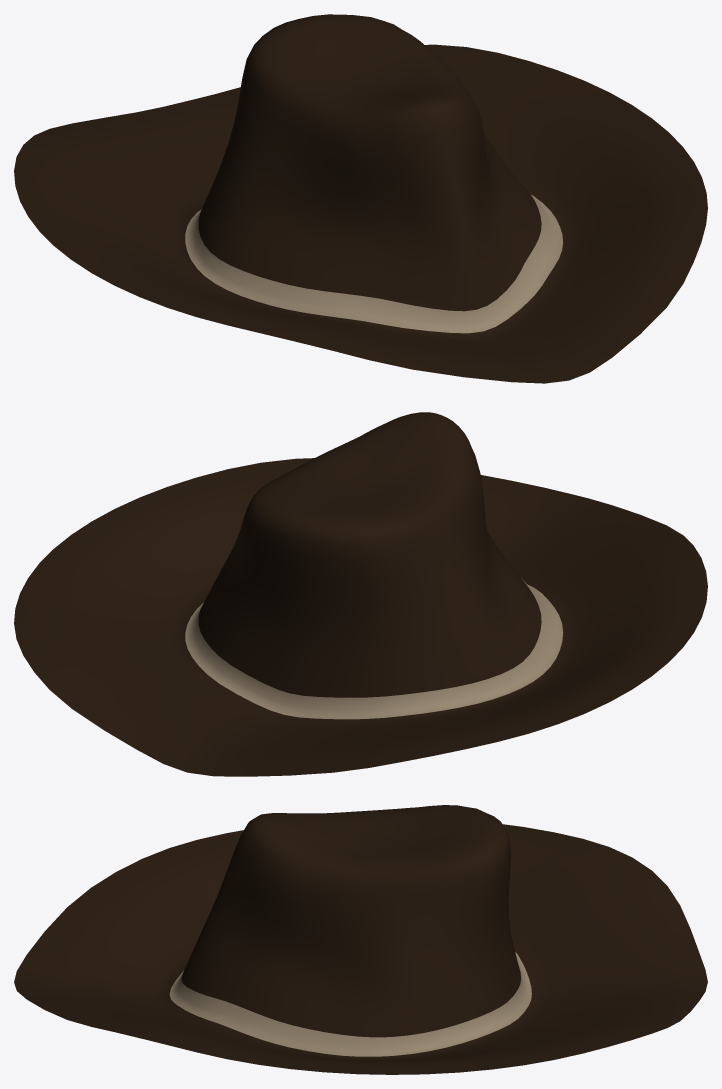
Rendered from cowboyhat_for_export.fbx.
3 renders of one model, top to bottom at view 1: azimuth 30°, elevation 25°; view 2: azimuth 150°, elevation 25°; view 3: azimuth 270°, elevation 25°, orthographic. The views are drawn at different scales.
Visible parts, largest first — view 1: CowboyHat; view 2: CowboyHat; view 3: CowboyHat.
Part boxes in pixels (box(x1,y1,x2,y2)): CowboyHat: box(14, 14, 707, 383); CowboyHat: box(14, 412, 707, 776); CowboyHat: box(14, 805, 707, 1074).
Size of the model in its own units: 46.69 by 14.74 by 53.17.
